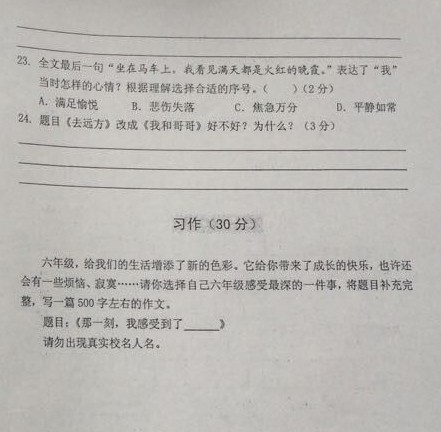text: (16, 52, 403, 76), (19, 274, 421, 294), (14, 112, 339, 134), (41, 255, 415, 274), (38, 95, 401, 113), (36, 75, 337, 94), (40, 315, 227, 333), (19, 295, 173, 312), (40, 336, 164, 351), (169, 215, 260, 232)
